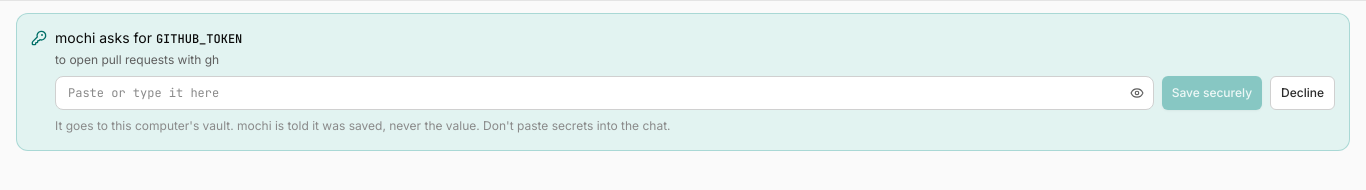
Test: SecretRequestCards › hides the value, saves it once, and clears the field
The image size is (1366, 190).
Expected: the button "Save securely" is disabled, x1=1162 y1=76 x2=1262 y2=110
Step 1. Type "ghp_secret" into the password field with test id "secret-input-sec_aaa" → [604, 93], box x1=55 y1=76 x2=1154 y2=110
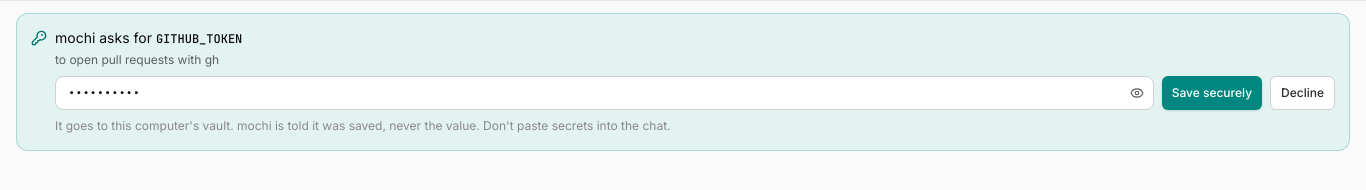
Step 2. Click the button named "show" → [1137, 93], box x1=1124 y1=80 x2=1150 y2=106
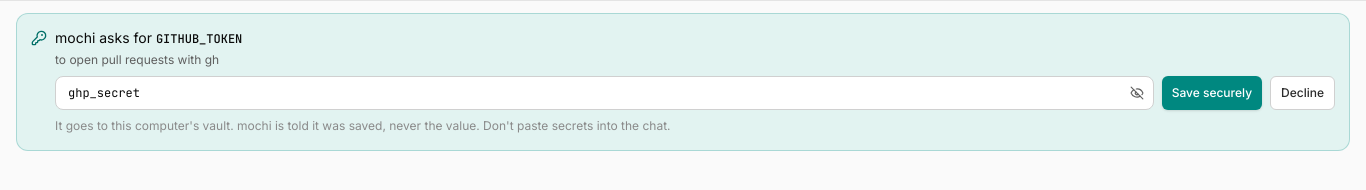
Step 3. Click the button "Save securely" → [1212, 93], box x1=1162 y1=76 x2=1262 y2=110
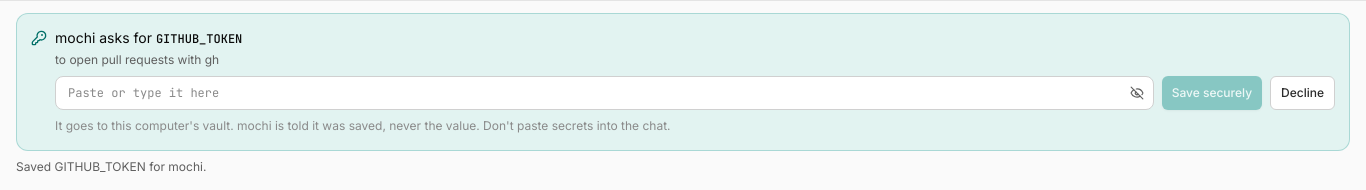
Expected: the field with test id "secret-input-sec_aaa" is empty, x1=55 y1=76 x2=1154 y2=110
Expected: the element with test id "secret-cards" shows "Saved GITHUB_TOKEN", x1=16 y1=158 x2=206 y2=174
